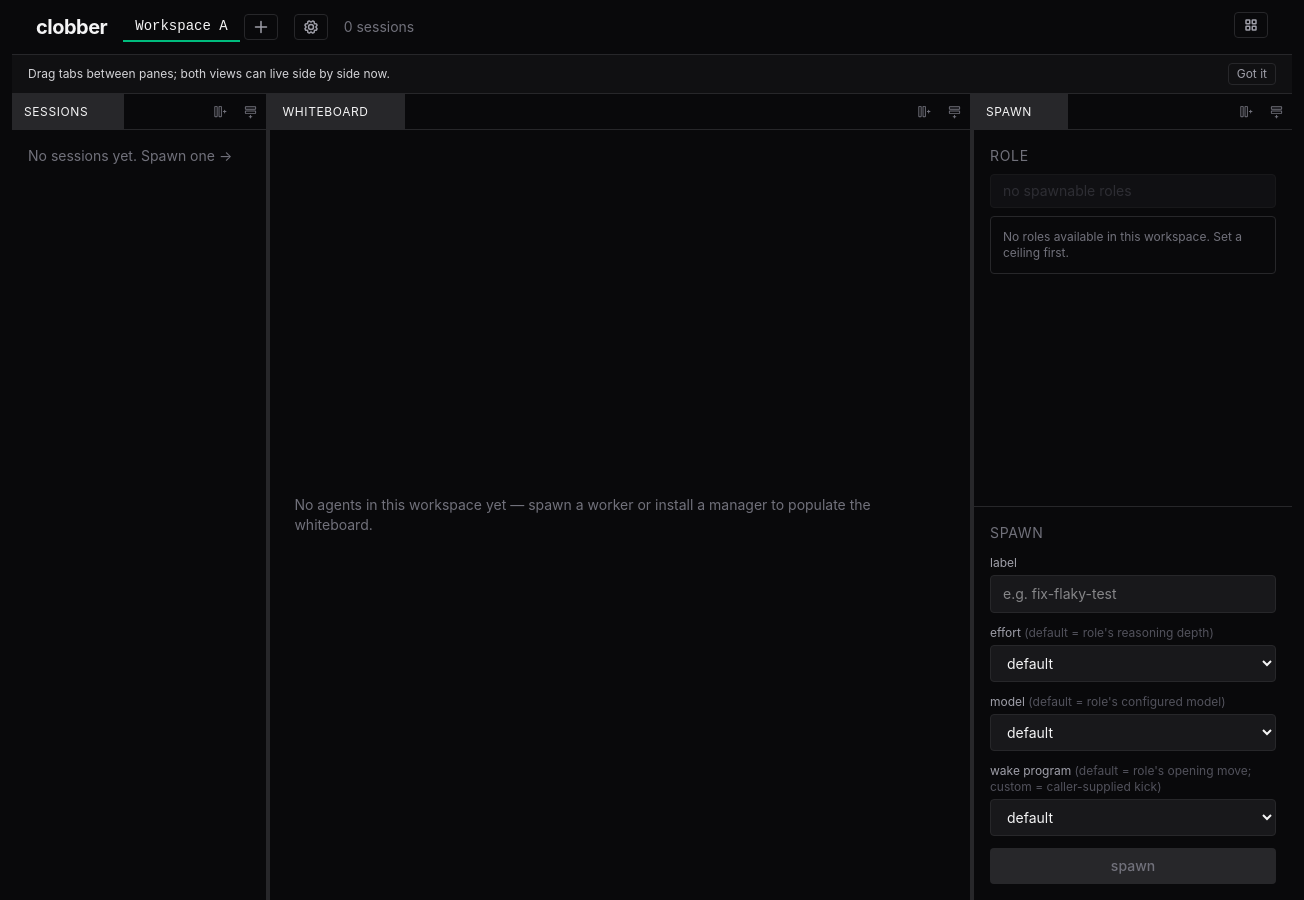
it: tab drag between panes (#280) › pointer-down on a tab renders a floating ghost
Press the mouse on the tab "Whiteboard" at (338, 112), box [270, 94, 405, 129]
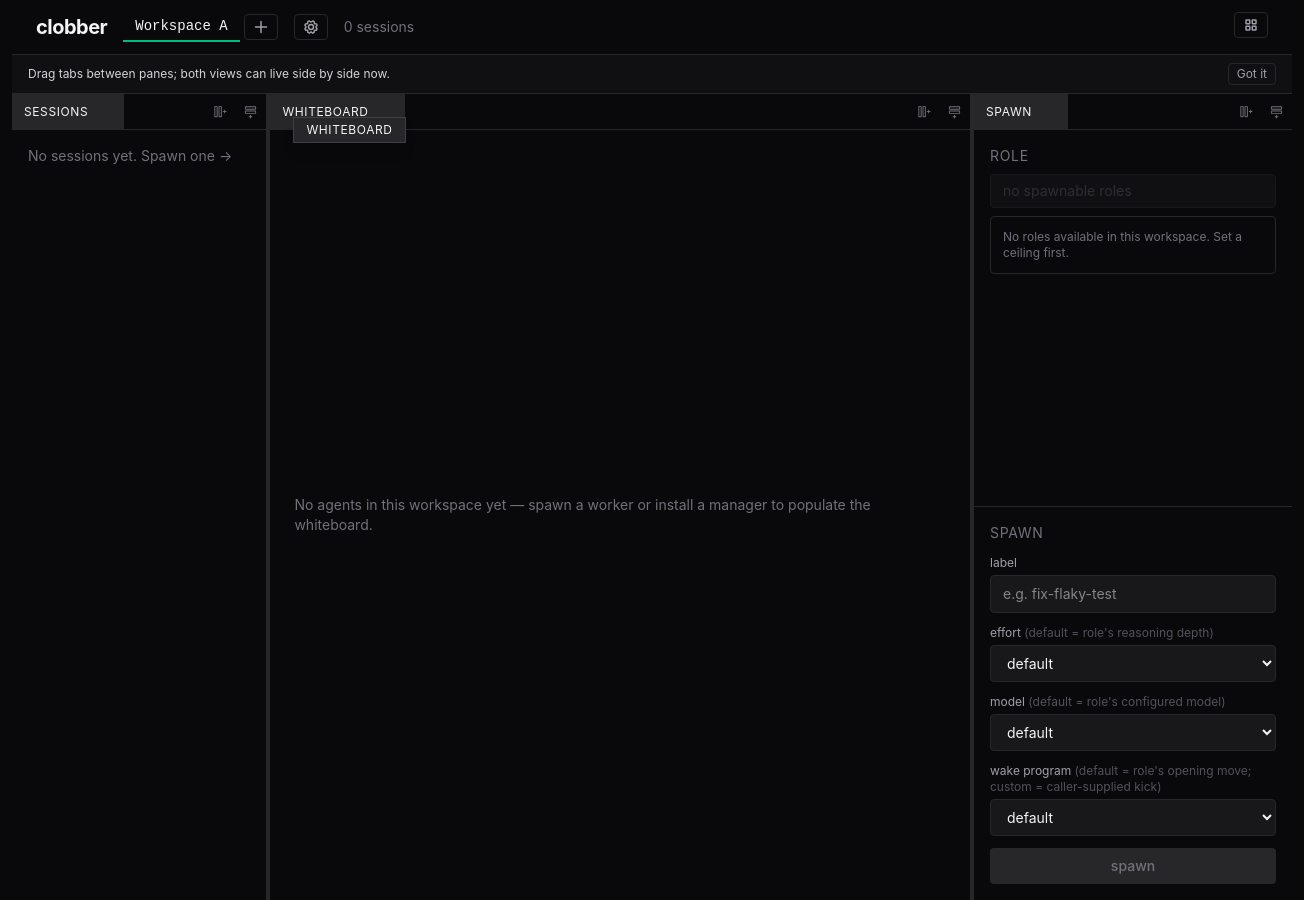
Check: the text "Whiteboard" is shown, box [293, 117, 406, 143]
